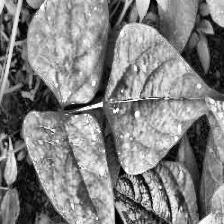Bean Rust: (102, 27, 224, 174), (18, 112, 124, 224), (25, 0, 110, 106), (139, 174, 223, 224)
